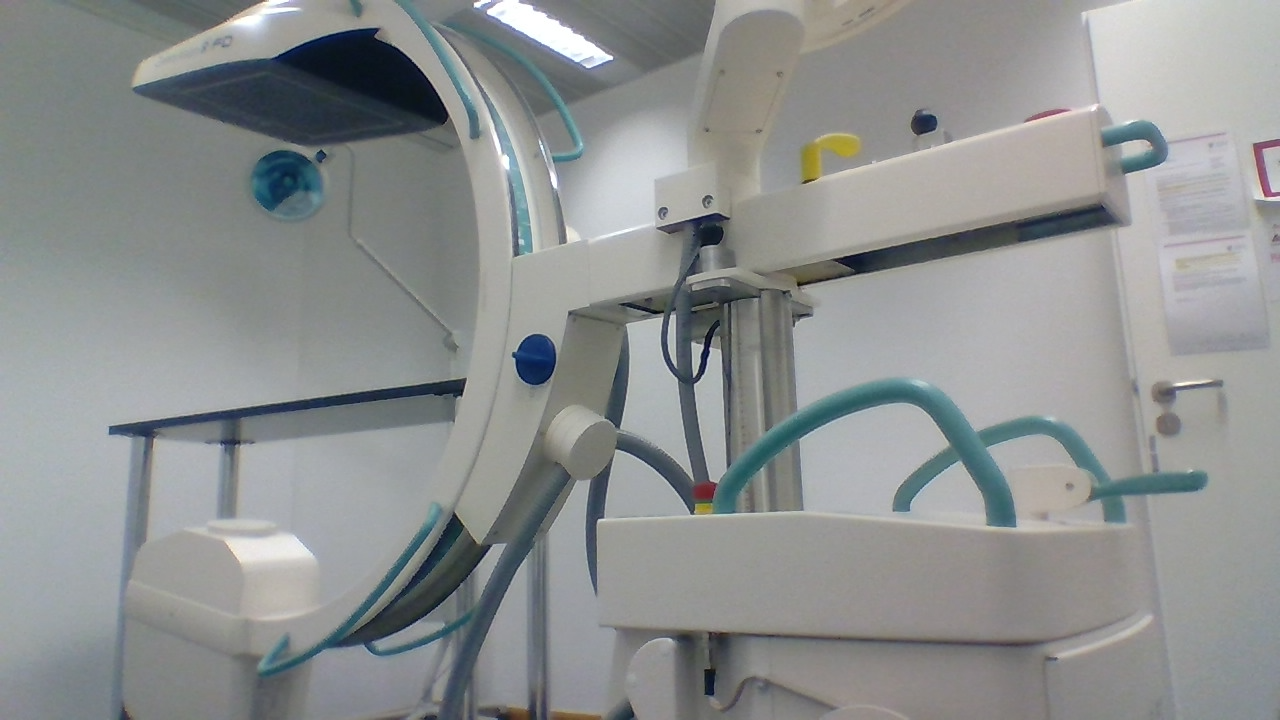carmBACK: (998, 453, 1211, 522)
carmDOWN: (128, 515, 325, 620)
carmLOCK: (509, 332, 558, 388)
carmUP: (130, 2, 451, 148)
